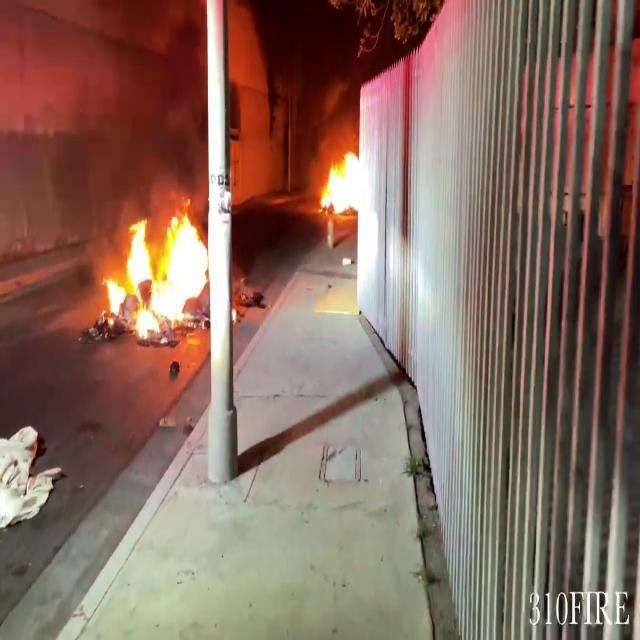Fire: (99, 204, 210, 339), (316, 136, 366, 225)
Smoke: (0, 0, 210, 226)
